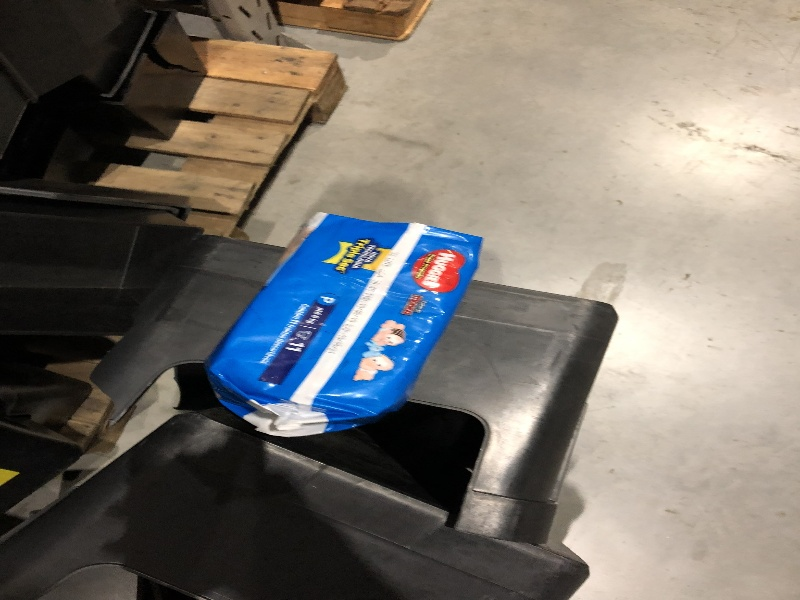fralda: (236, 211, 455, 420)
